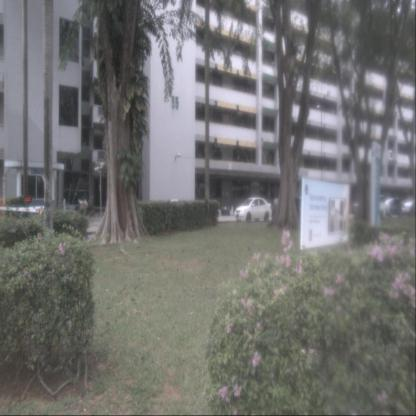vehicle-car: (235, 198, 272, 222), (358, 195, 385, 219), (382, 198, 402, 218), (401, 201, 416, 217)
